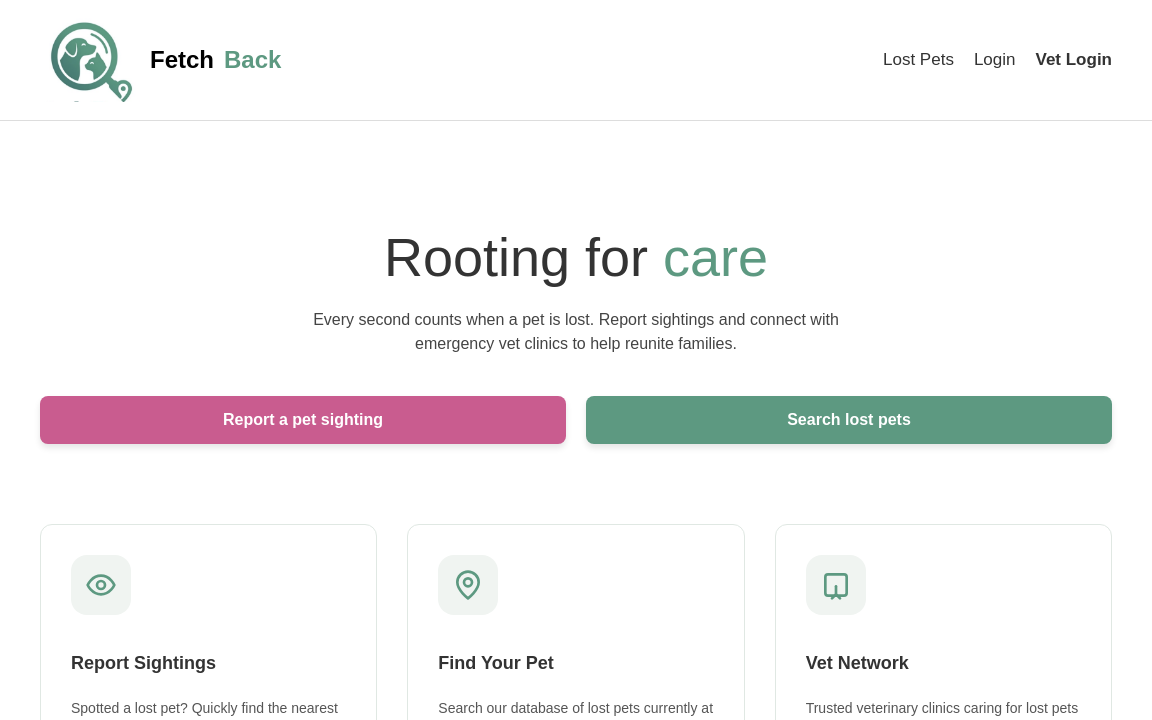
Test: VetDashboard Navigation & Load › successfully navigates from Home to Dashboard and loads pets
Note: click vet login
Click the text "Vet Login" at coordinates (1074, 60), box [1036,50,1112,70]
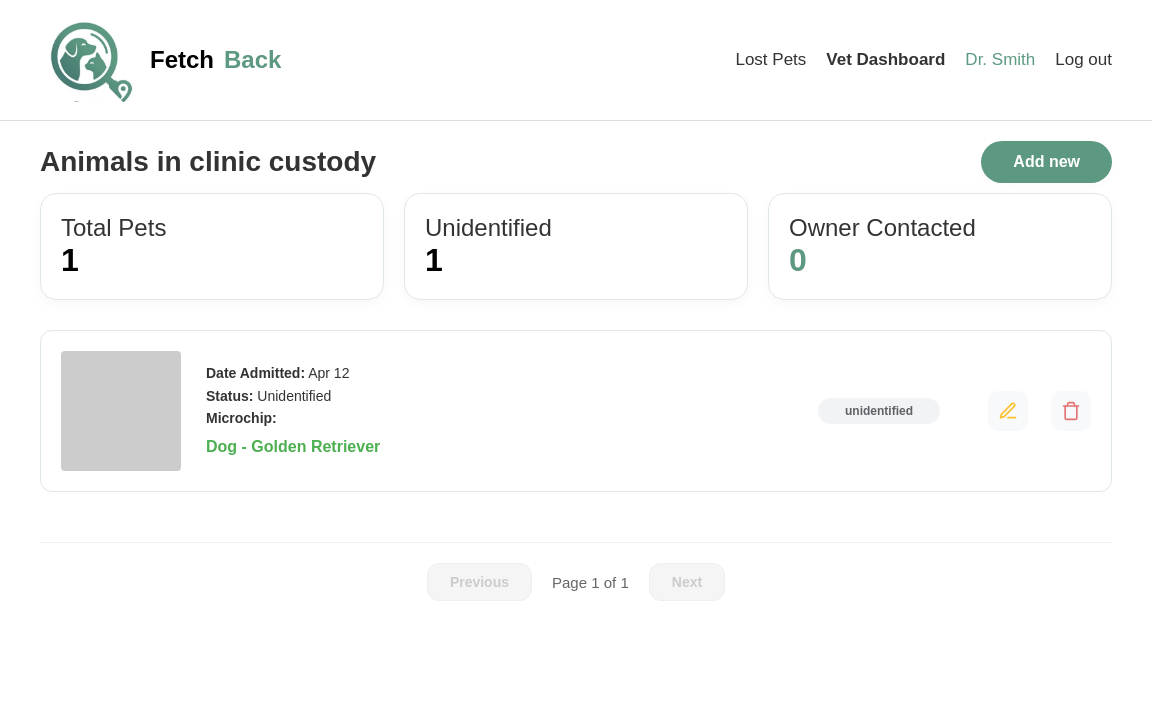
Now the heading "Animals in clinic custody" is shown, box [40,146,376,178]
Now the text "Dog - Golden Retriever" is shown, box [206,438,380,455]
Now the text "1" below "Total Pets" is shown, box [61,242,79,278]
